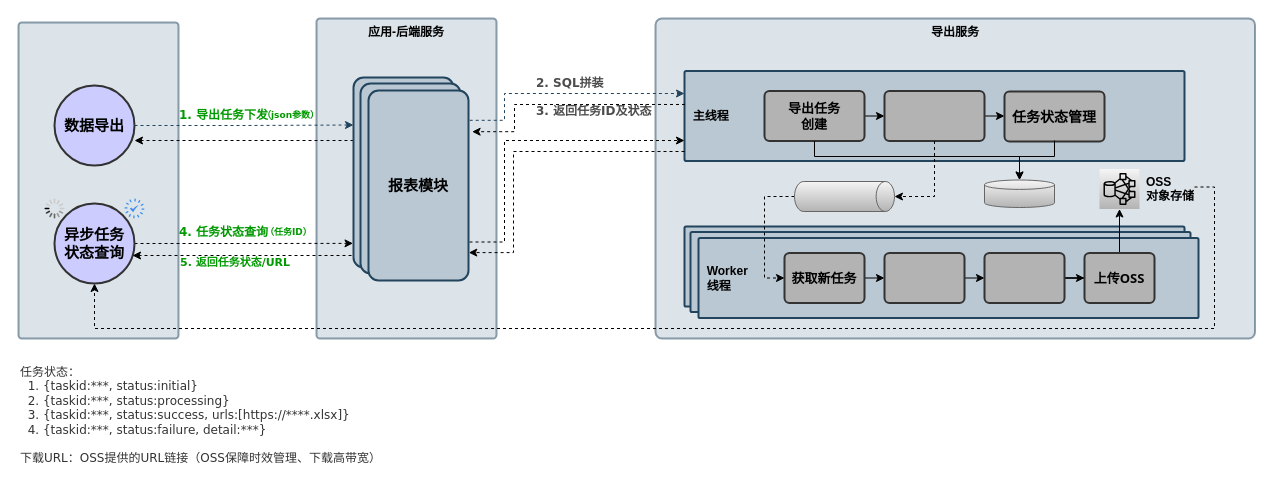
This 1273x495 diagram has some shape labels left out. The shapes that lost their labels are listed below. From the top down, each one's box as (x1, y1, x2, y2) in pixels, then its label:
(883, 90, 985, 142): 导出任务 入消息队列
(17, 21, 179, 339): 应用-前端页面
(794, 180, 894, 212): 队列( Redis)
(984, 179, 1054, 208): MySQL
(883, 252, 965, 304): 行数分片 SQL执行
(983, 252, 1065, 304): 文件 格式 加工
